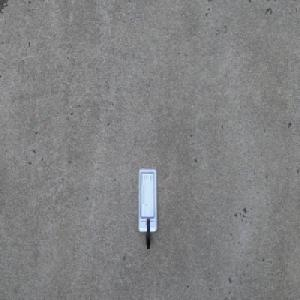LuggageTag: (137, 167, 157, 250)
